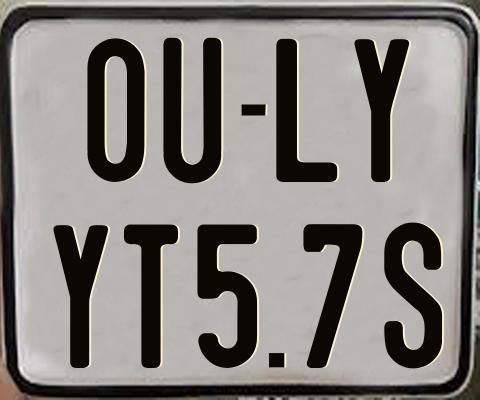0: (85, 35, 149, 181)
5: (195, 224, 258, 374)
7: (303, 222, 363, 371)
L: (274, 39, 337, 183)
S: (382, 222, 440, 369)
T: (121, 223, 181, 368)
U: (163, 37, 226, 183)
Y: (50, 225, 111, 373), (352, 39, 412, 185)
